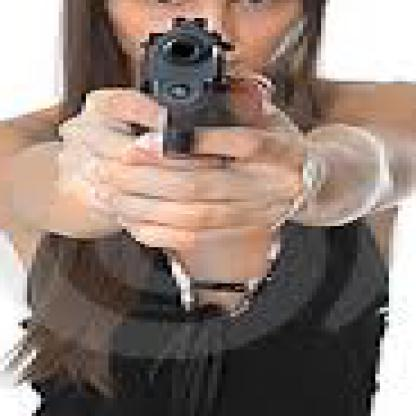gun: (122, 9, 258, 193)
